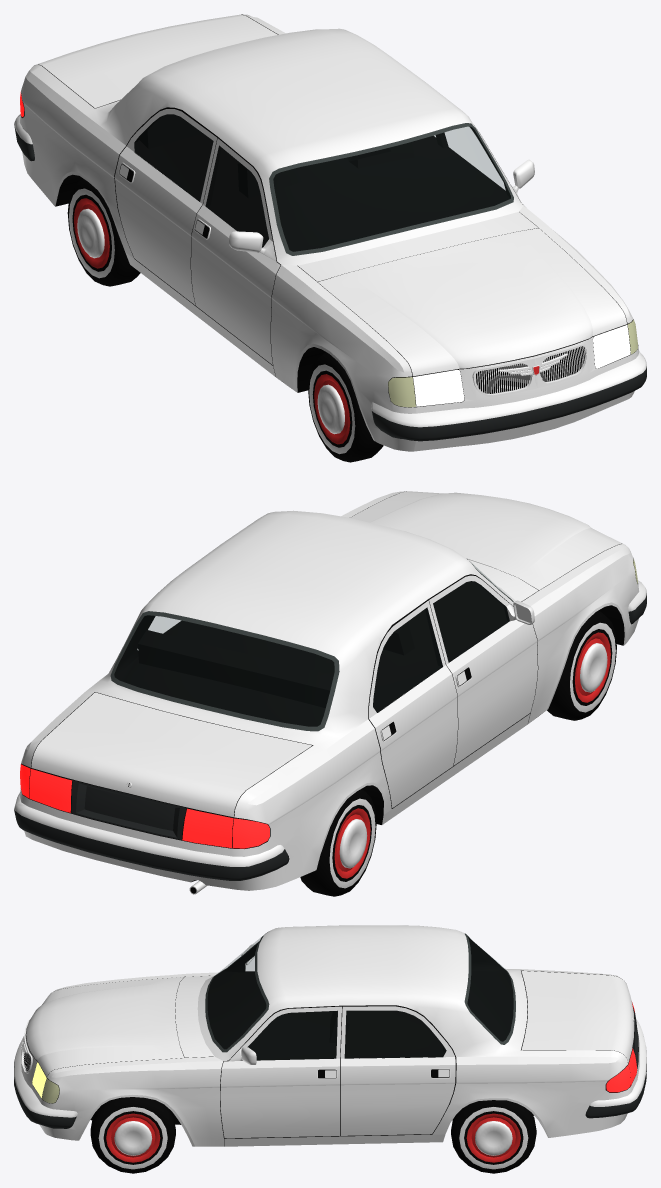
File: volga_gaz3110.glb
3 views of the same model, one above another, from view 1: azimuth 30°, elevation 25°; view 2: azimuth 150°, elevation 25°; view 3: azimuth 270°, elevation 25° (orthographic). The views are drawn at different scales.
Visible parts, largest first — view 1: Body, FrontBumper, WheelFR, WheelRR; view 2: Body, RearBumper, WheelFR, WheelRR; view 3: Body, WheelFL, WheelRL, FrontBumper, RearBumper.
Boxes of the visible parts, bbox=[...] form: Body: bbox=[19, 14, 639, 451]; FrontBumper: bbox=[371, 352, 646, 441]; WheelFR: bbox=[308, 352, 383, 462]; WheelRR: bbox=[67, 178, 140, 286]; Body: bbox=[19, 491, 639, 894]; RearBumper: bbox=[14, 792, 289, 880]; WheelFR: bbox=[547, 611, 616, 720]; WheelRR: bbox=[300, 788, 376, 896]; Body: bbox=[21, 925, 639, 1146]; WheelFL: bbox=[90, 1097, 175, 1173]; WheelRL: bbox=[451, 1100, 536, 1173]; FrontBumper: bbox=[14, 1036, 77, 1128]; RearBumper: bbox=[585, 1018, 646, 1118].
Bounding box in the file's own units: 2.01 × 1.47 × 4.84.
